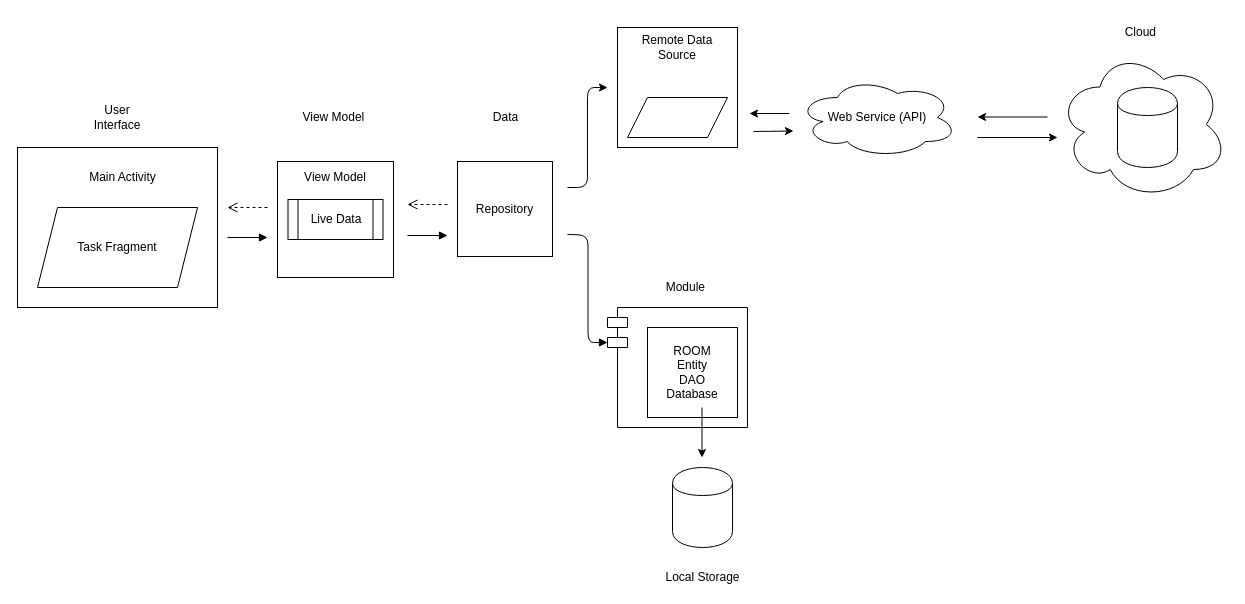
The diagram is 1245 pixels wide and 604 high, and some of its shapes have lost their labels. Here are the shapes that lost their labels. From the top down, the centre of each, then its label:
At point 677,117: "Http Library".
At point 1147,127: "DB".
At point 702,507: "SQLL DB".
